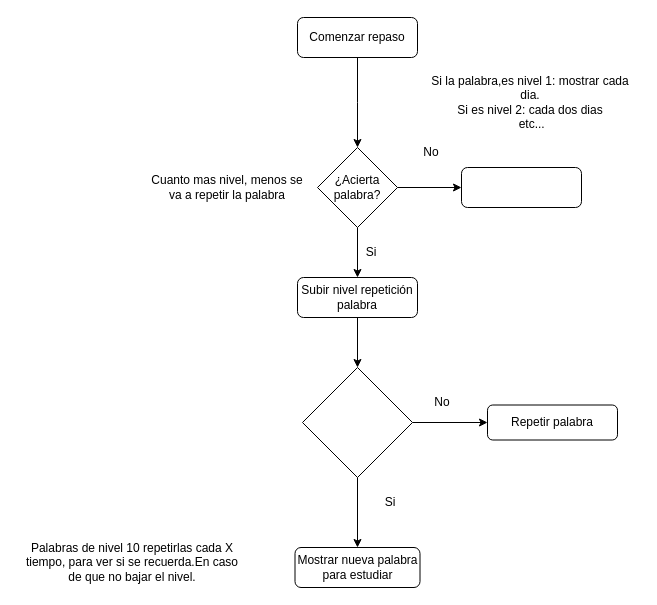
The diagram is 657 pixels wide and 605 high, and some of its shapes have lost their labels. The shapes that lost their labels are listed below. From the top down, each one's centre as x and y in pixels, then its label:
At point (521, 187): "Bajar nivel repetición palabra".
At point (357, 422): "Nivel palabra repaso > 10".
